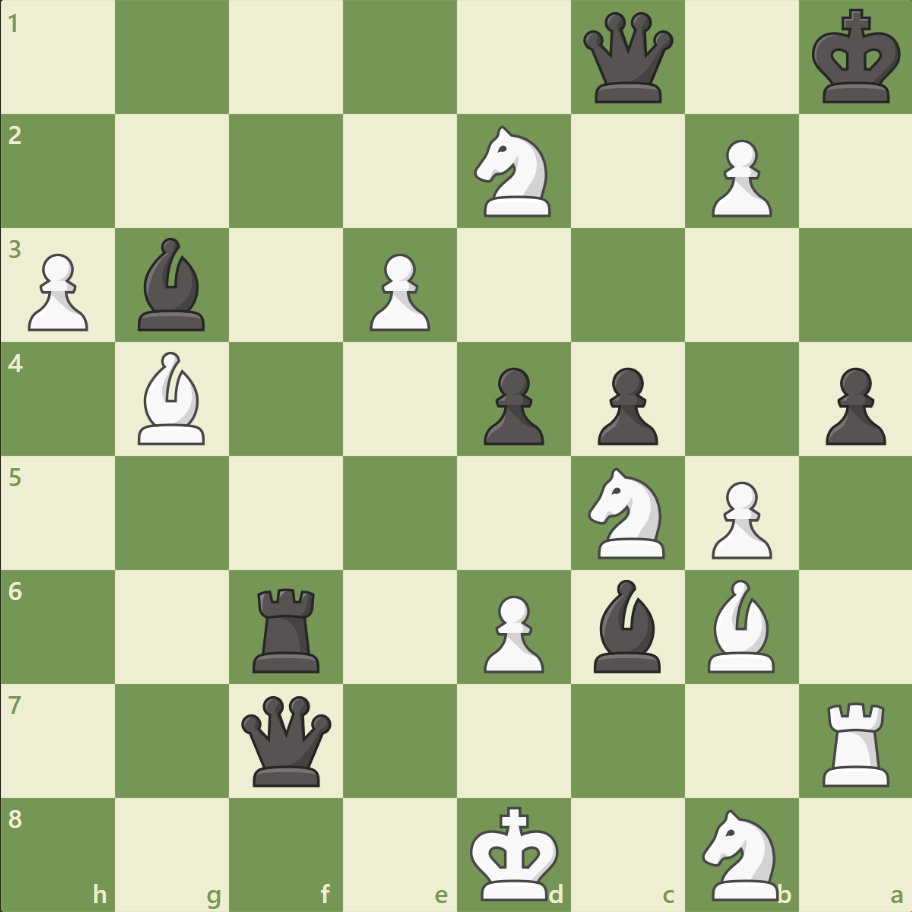B: (698, 574, 782, 676), (131, 347, 215, 449)
K: (465, 798, 565, 906)
N: (579, 461, 676, 564), (692, 802, 789, 904), (465, 121, 562, 223)
P: (474, 586, 549, 677), (701, 473, 776, 564), (20, 246, 95, 337), (701, 132, 776, 223), (361, 246, 435, 337)
R: (814, 693, 897, 790)
b: (131, 233, 215, 336), (585, 574, 669, 676)
k: (806, 4, 906, 112)
p: (474, 359, 549, 450), (815, 359, 889, 450), (588, 359, 662, 450)
q: (237, 690, 336, 789), (578, 9, 677, 108)
r: (246, 579, 329, 676)
